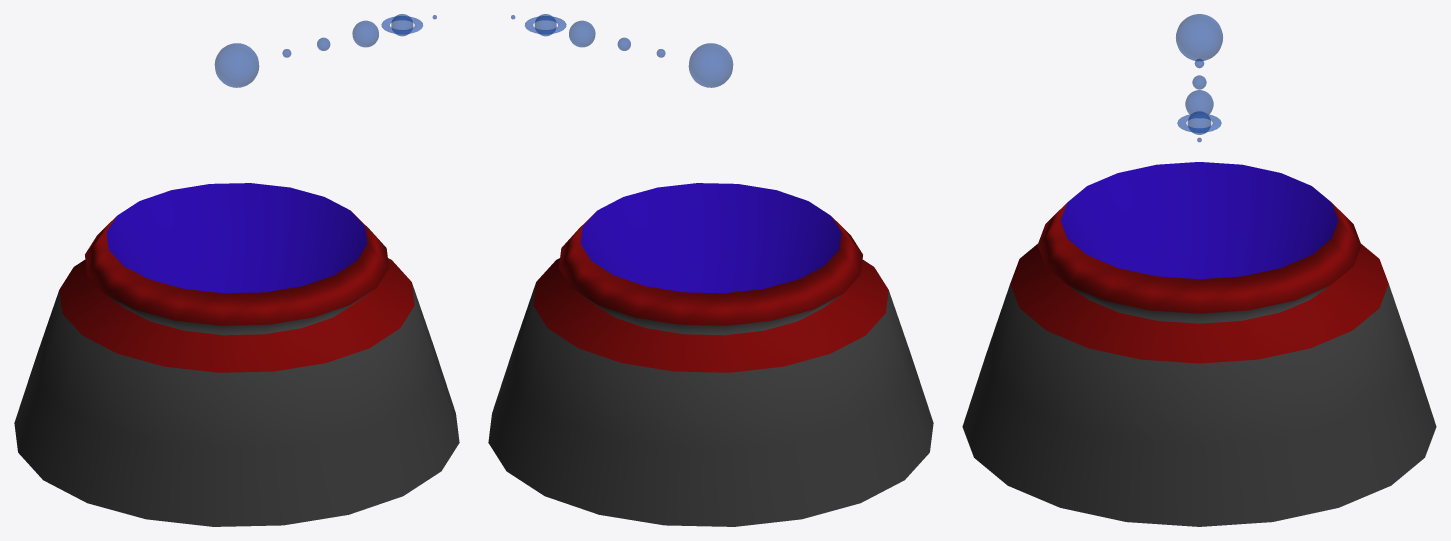
Rendered from ProjectrorFBX.fbx.
The picture shows the model from 3 angles, left to right: view 1: azimuth 30°, elevation 25°; view 2: azimuth 150°, elevation 25°; view 3: azimuth 270°, elevation 25°; orthographic projection. The views are drawn at different scales.
Parts seen in each view (by area): view 1: projector, sun, Planet2; view 2: projector, sun, Planet2; view 3: projector, sun, Planet2.
Part boxes in pixels (x1,y1,x2,y2): projector: (14, 183, 459, 526); sun: (214, 43, 259, 87); Planet2: (352, 20, 378, 47); projector: (488, 183, 933, 526); sun: (688, 43, 733, 87); Planet2: (569, 20, 595, 47); projector: (962, 162, 1436, 526); sun: (1176, 14, 1222, 60); Planet2: (1185, 90, 1213, 114).
Size of the model in its own units: 2.03 by 1.91 by 2.
